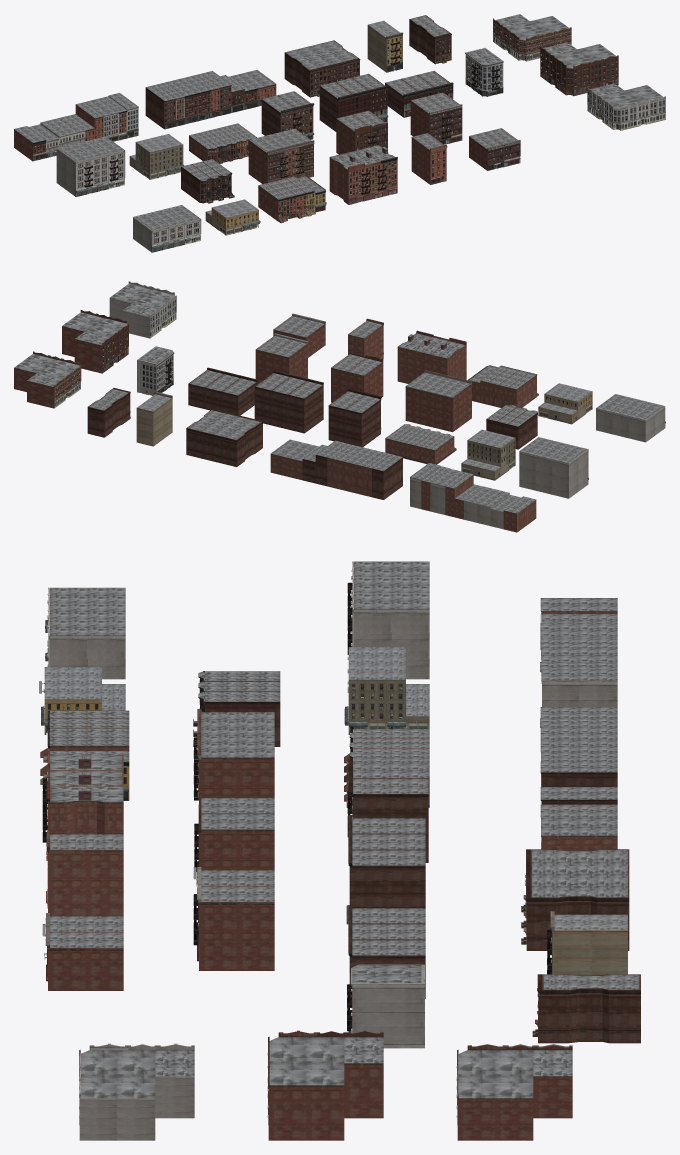
File: b_brownstone.glb
3 renders of one model, top to bottom at view 1: azimuth 30°, elevation 25°; view 2: azimuth 150°, elevation 25°; view 3: azimuth 270°, elevation 25°, orthographic. The views are drawn at different scales.
Visible parts, largest first — view 1: Brownstone_FlatFacade_9, Brownstone_Harlem_1_B, Brownstone_Lowrise_1_B_Brownstone_Facade_Flr_3_0, Brownstone_FlatFacadeComplex_1_Brownstone_Facade_Flr_2_0, Brownstone_FlatFacade_2_Brownstone_Facade_Flr_3_0, Brownstone_FlatFacade_1_Brownstone_Facade_Flr_2_0, Brownstone_FlatFacade_6_Brownstone_Facade_Flr_1_0, Brownstone_FlatFacade_9_B, Brownstone_FlatFacadeComplex_2_Brownstone_Facade_Flr_4_0, Brownstone_Lowrise_1_C_Brownstone_Facade_Flr_4_0, Brownstone_Lowrise_1_Brownstone_Facade_Flr_3_0, Brownstone_ClassicComplex_2_Brownstone_Facade_Flr_2_0 (+23 smaller); view 2: Brownstone_FlatFacade_6_Brownstone_Facade_Flr_1_0, Brownstone_FlatFacade_9, Brownstone_FlatFacadeComplex_1_Brownstone_Facade_Flr_2_0, Brownstone_Harlem_1_B, Brownstone_FlatFacade_2_Brownstone_Facade_Flr_3_0, Brownstone_Lowrise_1_B_Brownstone_Facade_Flr_3_0, Brownstone_FlatFacadeComplex_2_Brownstone_Facade_Flr_4_0, Brownstone_FlatFacade_1_Brownstone_Facade_Flr_2_0, Brownstone_Lowrise_1_Brownstone_Facade_Flr_3_0, Brownstone_Lowrise_1_C_Brownstone_Facade_Flr_4_0, Brownstone_FlatFacade_3_Brownstone_Facade_Flr_1_0, Brownstone_FlatFacade_9_B (+15 smaller); view 3: Brownstone_Lowrise_1_B_Brownstone_Facade_Flr_3_0, Brownstone_Lowrise_1_C_Brownstone_Facade_Flr_4_0, Brownstone_Lowrise_1_Brownstone_Facade_Flr_3_0, Brownstone_Harlem_1_B, Brownstone_FlatFacade_9, Brownstone_FlatFacade_7_Brownstone_Facade_Flr_3_Dif_0, Brownstone_Harlem_1, Brownstone_FlatFacade_6_Brownstone_Facade_Flr_1_0, Brownstone_FlatFacadeComplex_1_Brownstone_Facade_Flr_2_0, Brownstone_FlatFacade_9_B, Brownstone_FlatFacade_2_Brownstone_Facade_Flr_3_0, Brownstone_FlatFacade_4 (+15 smaller).
Part boxes in pixels (bbox=[...]): Brownstone_FlatFacade_9: bbox=[56, 136, 125, 196]; Brownstone_Harlem_1_B: bbox=[284, 40, 360, 97]; Brownstone_Lowrise_1_B_Brownstone_Facade_Flr_3_0: bbox=[540, 42, 618, 89]; Brownstone_FlatFacadeComplex_1_Brownstone_Facade_Flr_2_0: bbox=[157, 70, 276, 119]; Brownstone_FlatFacade_2_Brownstone_Facade_Flr_3_0: bbox=[248, 128, 314, 183]; Brownstone_FlatFacade_1_Brownstone_Facade_Flr_2_0: bbox=[329, 145, 397, 204]; Brownstone_FlatFacade_6_Brownstone_Facade_Flr_1_0: bbox=[319, 73, 387, 131]; Brownstone_FlatFacade_9_B: bbox=[133, 205, 201, 252]; Brownstone_FlatFacadeComplex_2_Brownstone_Facade_Flr_4_0: bbox=[29, 93, 138, 153]; Brownstone_Lowrise_1_C_Brownstone_Facade_Flr_4_0: bbox=[587, 83, 665, 123]; Brownstone_Lowrise_1_Brownstone_Facade_Flr_3_0: bbox=[493, 14, 571, 54]; Brownstone_ClassicComplex_2_Brownstone_Facade_Flr_2_0: bbox=[258, 176, 325, 223]; Brownstone_FlatFacade_6_Brownstone_Facade_Flr_1_0: bbox=[254, 370, 323, 433]; Brownstone_FlatFacade_9: bbox=[519, 437, 588, 498]; Brownstone_FlatFacadeComplex_1_Brownstone_Facade_Flr_2_0: bbox=[270, 439, 391, 497]; Brownstone_Harlem_1_B: bbox=[186, 409, 262, 466]; Brownstone_FlatFacade_2_Brownstone_Facade_Flr_3_0: bbox=[405, 370, 472, 432]; Brownstone_Lowrise_1_B_Brownstone_Facade_Flr_3_0: bbox=[62, 310, 128, 373]; Brownstone_FlatFacadeComplex_2_Brownstone_Facade_Flr_4_0: bbox=[410, 463, 520, 529]; Brownstone_FlatFacade_1_Brownstone_Facade_Flr_2_0: bbox=[397, 330, 466, 383]; Brownstone_Lowrise_1_Brownstone_Facade_Flr_3_0: bbox=[14, 351, 81, 408]; Brownstone_Lowrise_1_C_Brownstone_Facade_Flr_4_0: bbox=[109, 281, 176, 338]; Brownstone_FlatFacade_3_Brownstone_Facade_Flr_1_0: bbox=[328, 388, 381, 447]; Brownstone_FlatFacade_9_B: bbox=[596, 394, 665, 442]; Brownstone_Lowrise_1_B_Brownstone_Facade_Flr_3_0: bbox=[268, 1030, 383, 1140]; Brownstone_Lowrise_1_C_Brownstone_Facade_Flr_4_0: bbox=[79, 1043, 194, 1140]; Brownstone_Lowrise_1_Brownstone_Facade_Flr_3_0: bbox=[457, 1044, 572, 1140]; Brownstone_Harlem_1_B: bbox=[521, 849, 629, 950]; Brownstone_FlatFacade_9: bbox=[347, 561, 429, 679]; Brownstone_FlatFacade_7_Brownstone_Facade_Flr_3_Dif_0: bbox=[197, 867, 274, 970]; Brownstone_Harlem_1: bbox=[532, 974, 640, 1043]; Brownstone_FlatFacade_6_Brownstone_Facade_Flr_1_0: bbox=[348, 815, 425, 908]; Brownstone_FlatFacadeComplex_1_Brownstone_Facade_Flr_2_0: bbox=[540, 718, 617, 850]; Brownstone_FlatFacade_9_B: bbox=[45, 587, 125, 679]; Brownstone_FlatFacade_2_Brownstone_Facade_Flr_3_0: bbox=[197, 709, 274, 797]; Brownstone_FlatFacade_4: bbox=[46, 830, 123, 916].
Size of the model in its own units: 319 by 22.79 by 159.
10 materials, 10 textured.
